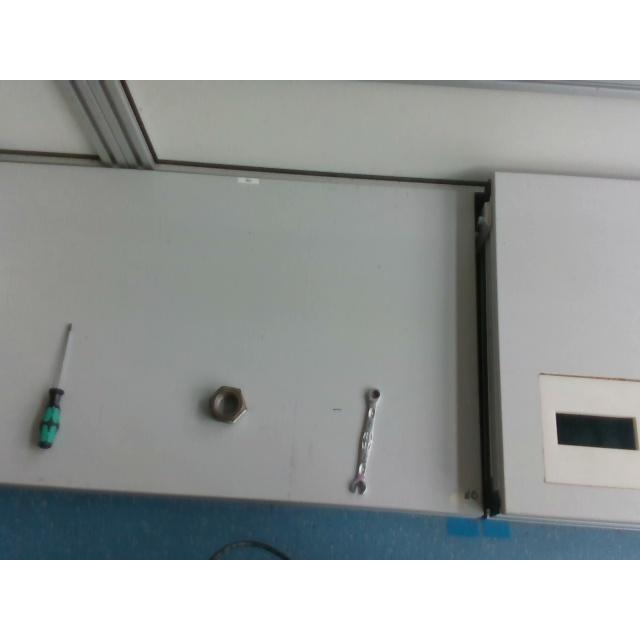M30: (206, 384, 248, 424)
Screwdriver: (36, 324, 72, 448)
Wrench: (351, 388, 382, 496)
